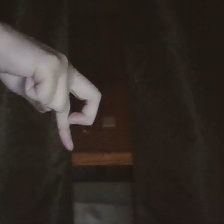P: (1, 16, 109, 157)
